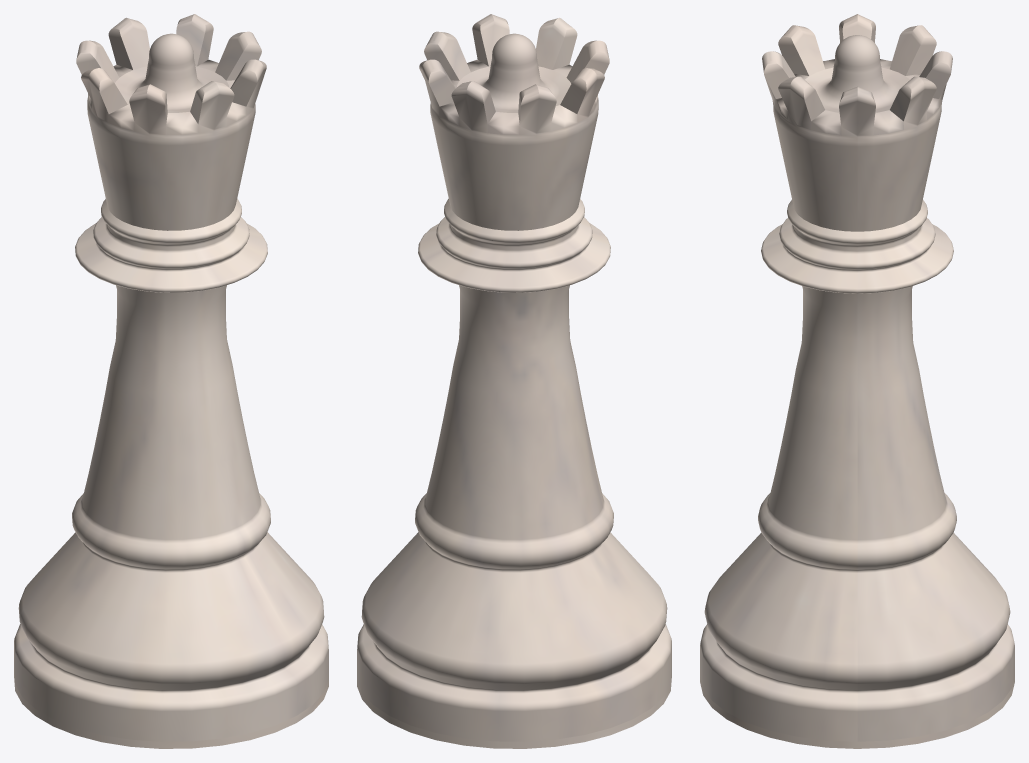
Rendered from queen.obj.
3 renders of one model, left to right at view 1: azimuth 30°, elevation 25°; view 2: azimuth 150°, elevation 25°; view 3: azimuth 270°, elevation 25°, orthographic.
Parts seen in each view (by area): view 1: chessKitExport; view 2: chessKitExport; view 3: chessKitExport.
Boxes of the visible parts, <box> form: chessKitExport: <box>14,14,328,748</box>; chessKitExport: <box>357,14,671,748</box>; chessKitExport: <box>700,14,1014,748</box>.
Size of the model in its own units: 3.74 by 8.45 by 3.74.
